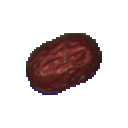gd: (22, 20, 120, 120)
